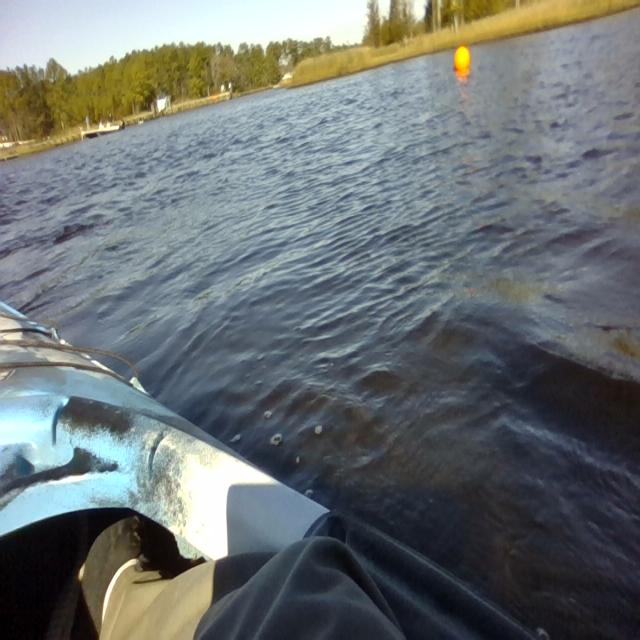Buoy: (451, 40, 474, 76)
